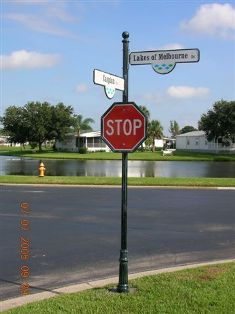stop: (98, 100, 150, 155)
